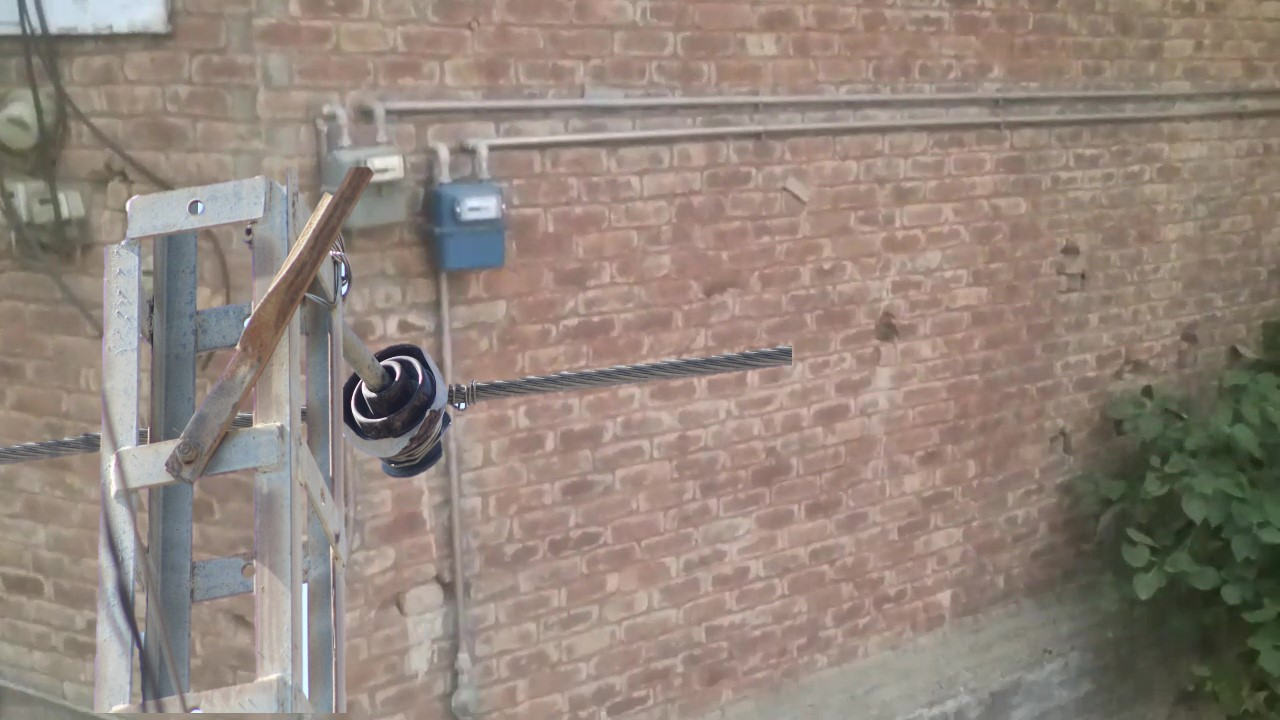defect_pin: (337, 339, 457, 487)
